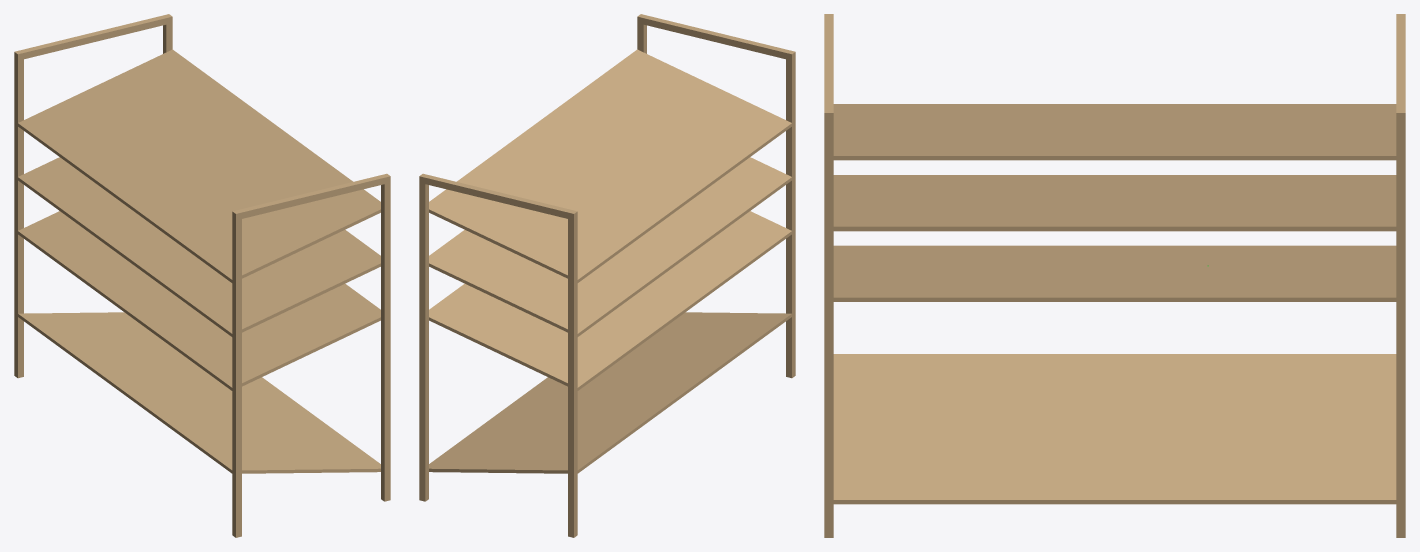
Rendered from Schubregal.fbx.
3 views of the same model, side by side, from view 1: azimuth 30°, elevation 25°; view 2: azimuth 150°, elevation 25°; view 3: azimuth 270°, elevation 25° (orthographic). The views are drawn at different scales.
Visible parts, largest first — view 1: Schubregal; view 2: Schubregal; view 3: Schubregal.
Boxes of the visible parts, x1,y1,x2,y2 form: Schubregal: (14, 14, 390, 537); Schubregal: (419, 14, 795, 537); Schubregal: (824, 14, 1405, 537).
Size of the model in its own units: 10 by 20 by 24.8.
